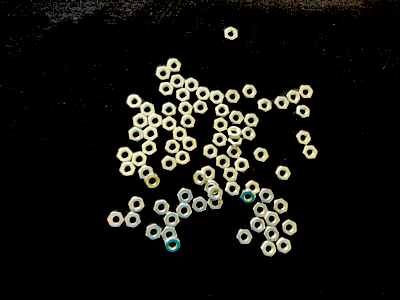nut: (125, 212, 142, 229), (144, 174, 162, 190), (261, 241, 277, 258), (263, 227, 280, 243), (146, 224, 162, 241), (108, 212, 125, 228), (154, 200, 171, 216), (176, 204, 193, 220), (178, 188, 194, 205), (276, 238, 292, 254), (250, 218, 266, 234), (165, 237, 181, 253), (129, 197, 145, 213), (192, 197, 208, 213), (120, 162, 136, 178), (132, 152, 148, 168), (162, 156, 178, 172), (164, 213, 181, 228), (237, 230, 253, 245), (282, 220, 297, 236), (265, 212, 281, 227), (274, 199, 289, 215), (225, 182, 241, 197), (208, 187, 224, 202), (193, 171, 208, 187), (138, 166, 154, 181), (117, 148, 133, 163), (296, 131, 312, 146), (235, 158, 250, 174), (175, 151, 191, 166), (165, 140, 181, 155), (142, 141, 157, 157), (143, 126, 158, 142), (129, 127, 144, 143), (302, 146, 319, 160), (253, 203, 268, 218), (259, 189, 274, 204), (241, 189, 256, 204), (201, 166, 216, 181), (173, 127, 188, 142), (133, 114, 148, 129), (148, 114, 163, 129), (162, 117, 177, 132), (213, 133, 228, 148), (227, 125, 242, 140), (181, 115, 196, 130), (215, 104, 230, 119), (162, 103, 177, 118), (159, 82, 174, 97), (156, 66, 171, 81), (162, 228, 178, 242), (208, 196, 224, 210), (204, 181, 220, 195), (223, 168, 239, 182), (217, 155, 231, 171), (127, 95, 143, 109), (214, 117, 228, 133), (229, 111, 245, 125), (225, 90, 241, 104), (245, 181, 260, 195), (276, 167, 291, 181), (204, 145, 218, 160), (254, 148, 269, 162), (183, 137, 197, 152), (140, 103, 155, 117), (296, 105, 311, 119), (258, 98, 272, 113), (243, 85, 258, 99), (210, 91, 225, 105), (193, 101, 208, 115), (178, 102, 193, 116), (196, 87, 211, 101), (176, 88, 191, 102), (185, 78, 199, 93), (171, 75, 186, 89), (167, 59, 182, 73), (227, 146, 243, 159), (274, 97, 290, 110), (242, 127, 256, 141), (225, 27, 239, 41), (299, 86, 314, 99), (228, 136, 244, 148), (287, 91, 301, 104), (244, 115, 259, 127)
